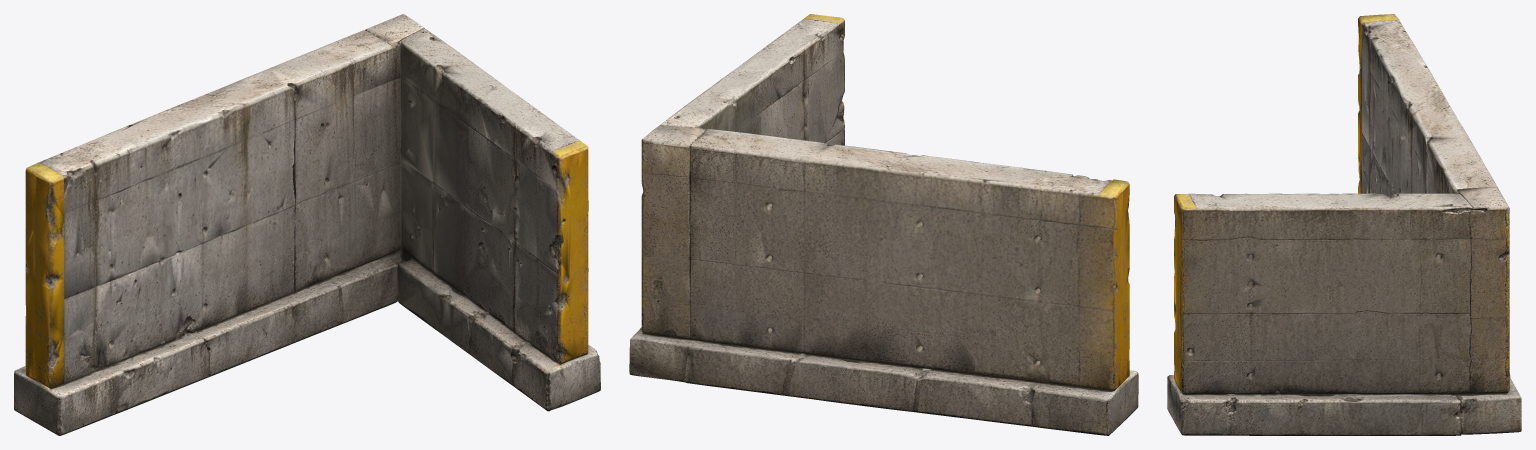
The model's file is barrier.glb.
3 views of the same model, side by side, from view 1: azimuth 30°, elevation 25°; view 2: azimuth 150°, elevation 25°; view 3: azimuth 270°, elevation 25° (orthographic). The views are drawn at different scales.
Visible parts, largest first — view 1: tripo_node_c423c588-f689-4dbf-8e60-6d17fcf1b85d; view 2: tripo_node_c423c588-f689-4dbf-8e60-6d17fcf1b85d; view 3: tripo_node_c423c588-f689-4dbf-8e60-6d17fcf1b85d.
Part boxes in pixels (x1,y1,x2,y2): tripo_node_c423c588-f689-4dbf-8e60-6d17fcf1b85d: (14, 14, 600, 435); tripo_node_c423c588-f689-4dbf-8e60-6d17fcf1b85d: (629, 14, 1138, 435); tripo_node_c423c588-f689-4dbf-8e60-6d17fcf1b85d: (1167, 14, 1521, 435).
Bounding box in the file's own units: 0.9785 × 0.5064 × 0.7273.
Materials: 1 (1 with a texture image).
